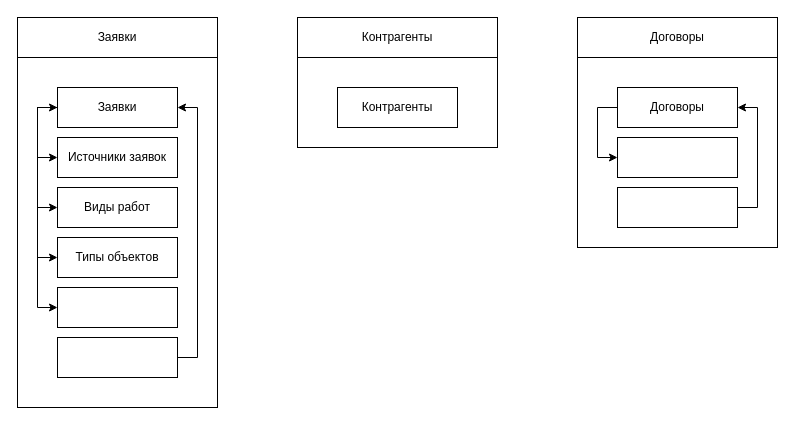
Some shapes in this 795 by 425 pixel diagram are drawn without their labels. The shapes that lost their labels are listed below. From the top down, each one's centre as x and y in pixels, then its label:
point 677,157: Предметы договоров
point 677,207: Стороны договоров
point 117,307: Статусы заявок
point 117,357: Исполнители заявок
